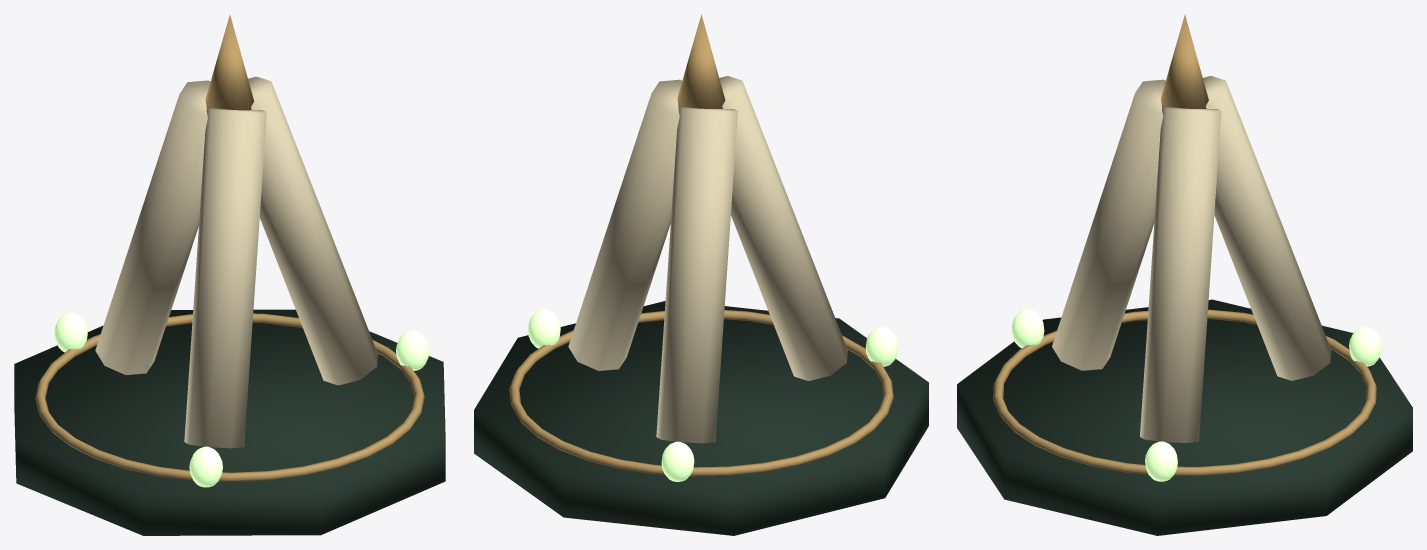
The picture shows the model from 3 angles, left to right: view 1: azimuth 30°, elevation 25°; view 2: azimuth 150°, elevation 25°; view 3: azimuth 270°, elevation 25°; orthographic projection.
Visible parts, largest first — view 1: Hexagonal plinth, Martyrs Memorial petal.002, Martyrs Memorial petal, Martyrs Memorial petal.001, Inlaid rim, Memory crown, Garden inlay.002, Garden inlay, Garden inlay.001; view 2: Hexagonal plinth, Martyrs Memorial petal.001, Martyrs Memorial petal.002, Martyrs Memorial petal, Inlaid rim, Memory crown, Garden inlay.001, Garden inlay.002, Garden inlay; view 3: Hexagonal plinth, Martyrs Memorial petal, Martyrs Memorial petal.001, Martyrs Memorial petal.002, Inlaid rim, Memory crown, Garden inlay, Garden inlay.001, Garden inlay.002.
Part boxes in pixels (x1,y1,x2,y2): Hexagonal plinth: [14, 309, 445, 535]; Martyrs Memorial petal.002: [184, 107, 266, 448]; Martyrs Memorial petal: [248, 76, 378, 385]; Martyrs Memorial petal.001: [95, 80, 210, 374]; Inlaid rim: [35, 313, 424, 481]; Memory crown: [205, 15, 254, 110]; Garden inlay.002: [189, 446, 222, 487]; Garden inlay: [396, 330, 429, 370]; Garden inlay.001: [54, 313, 87, 352]; Hexagonal plinth: [474, 301, 928, 535]; Martyrs Memorial petal.001: [656, 106, 737, 443]; Martyrs Memorial petal.002: [719, 76, 847, 381]; Martyrs Memorial petal: [568, 79, 682, 370]; Inlaid rim: [509, 310, 893, 476]; Memory crown: [677, 14, 725, 108]; Garden inlay.001: [661, 441, 694, 481]; Garden inlay.002: [865, 326, 898, 366]; Garden inlay: [528, 309, 560, 348]; Hexagonal plinth: [957, 299, 1412, 535]; Martyrs Memorial petal: [1140, 106, 1221, 442]; Martyrs Memorial petal.001: [1203, 76, 1331, 380]; Martyrs Memorial petal.002: [1052, 79, 1165, 370]; Inlaid rim: [993, 309, 1376, 476]; Memory crown: [1161, 15, 1208, 108]; Garden inlay: [1145, 441, 1177, 481]; Garden inlay.001: [1349, 326, 1381, 366]; Garden inlay.002: [1011, 309, 1044, 348].
Bounding box in the file's own units: 1.51 × 1.55 × 1.51.
